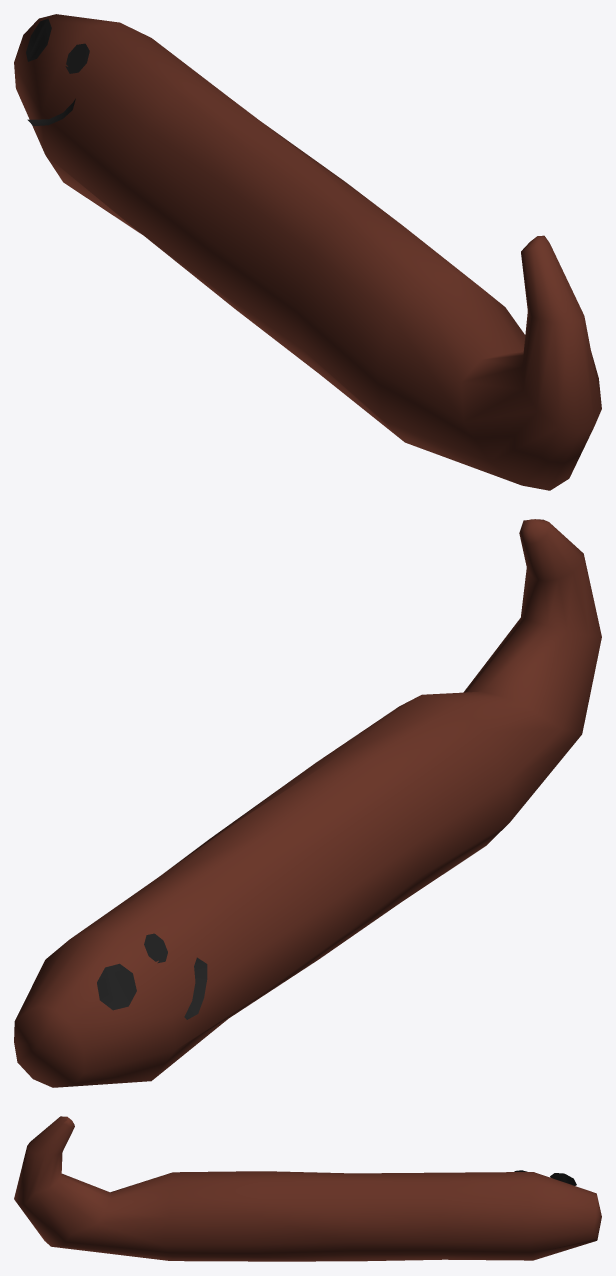
File: poop5.fbx
3 views of the same model, one above another, from view 1: azimuth 30°, elevation 25°; view 2: azimuth 150°, elevation 25°; view 3: azimuth 270°, elevation 25° (orthographic). The views are drawn at different scales.
Parts seen in each view (by area): view 1: poop5; view 2: poop5; view 3: poop5.
Part boxes in pixels (bbox=[...]): poop5: bbox=[14, 14, 601, 490]; poop5: bbox=[14, 519, 601, 1087]; poop5: bbox=[14, 1116, 601, 1261].
Size of the model in its own units: 24.81 by 41.65 by 154.
